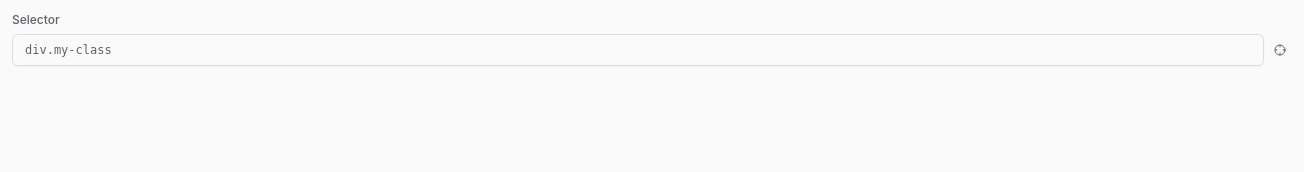
SelectorField › renders a chip per returned alternative
What coordinates should you click on to do the following:
click the button named "Pick element from page"
I would click on:
 (1280, 50)
Its box is [1268, 38, 1292, 62].
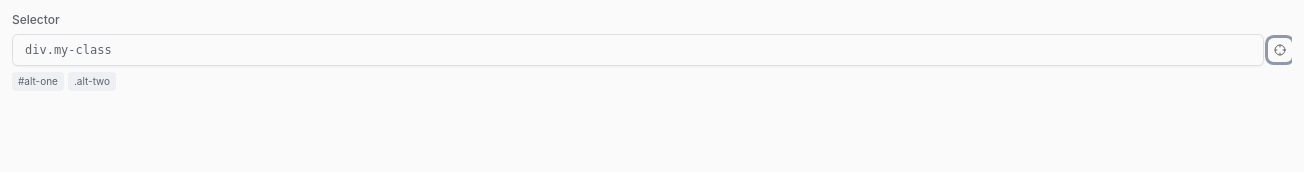
expect the button "#alt-one" is shown: met, box [12, 72, 64, 91]
